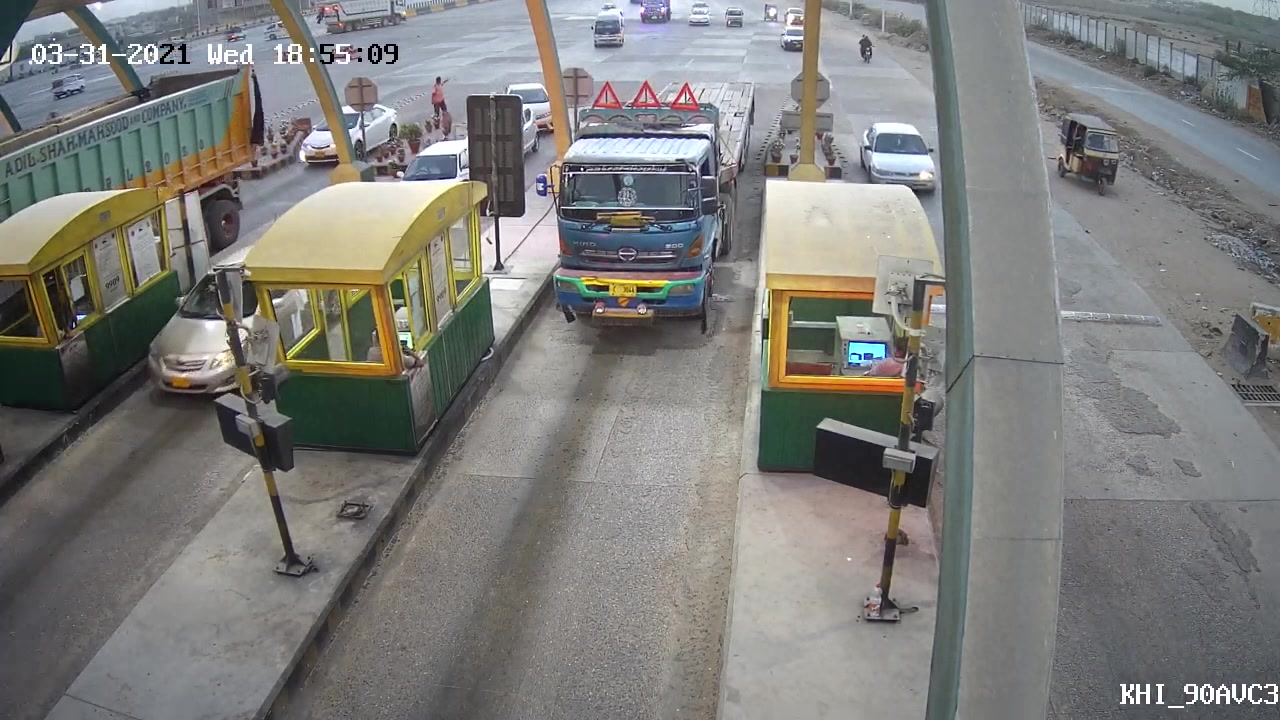F6: (537, 52, 758, 339)
